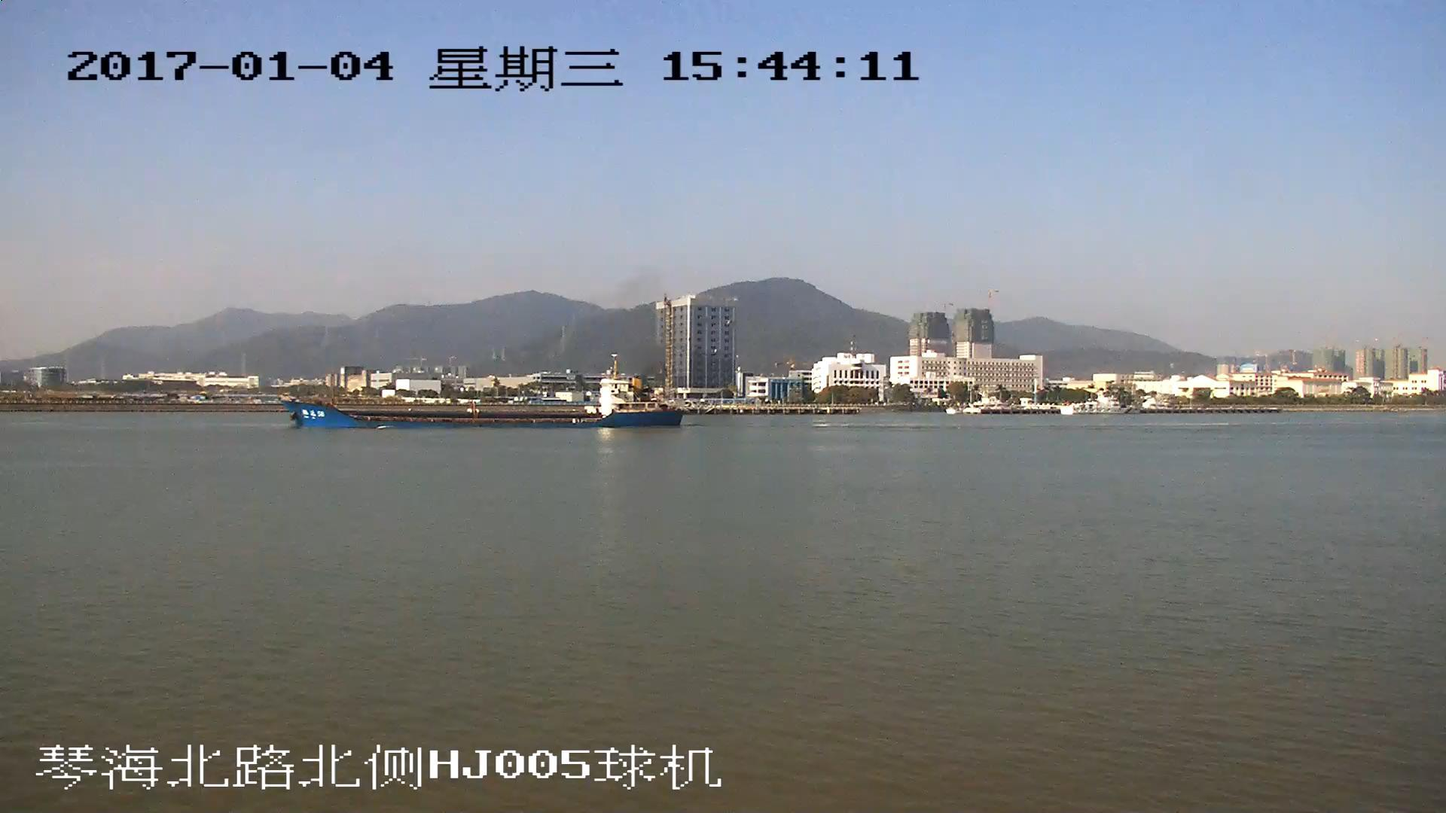general cargo ship: (284, 354, 682, 428)
